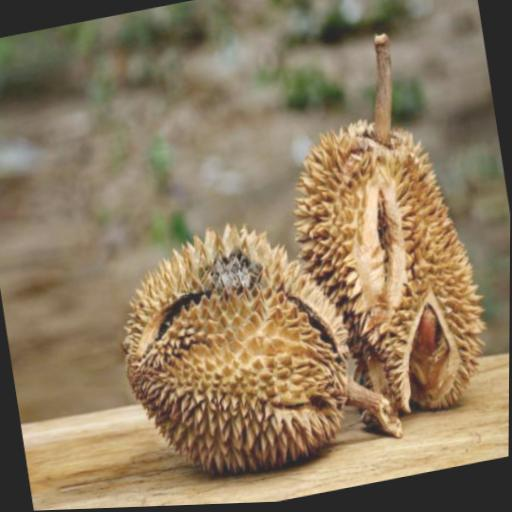rot: (61, 150, 425, 510), (250, 1, 512, 463)
